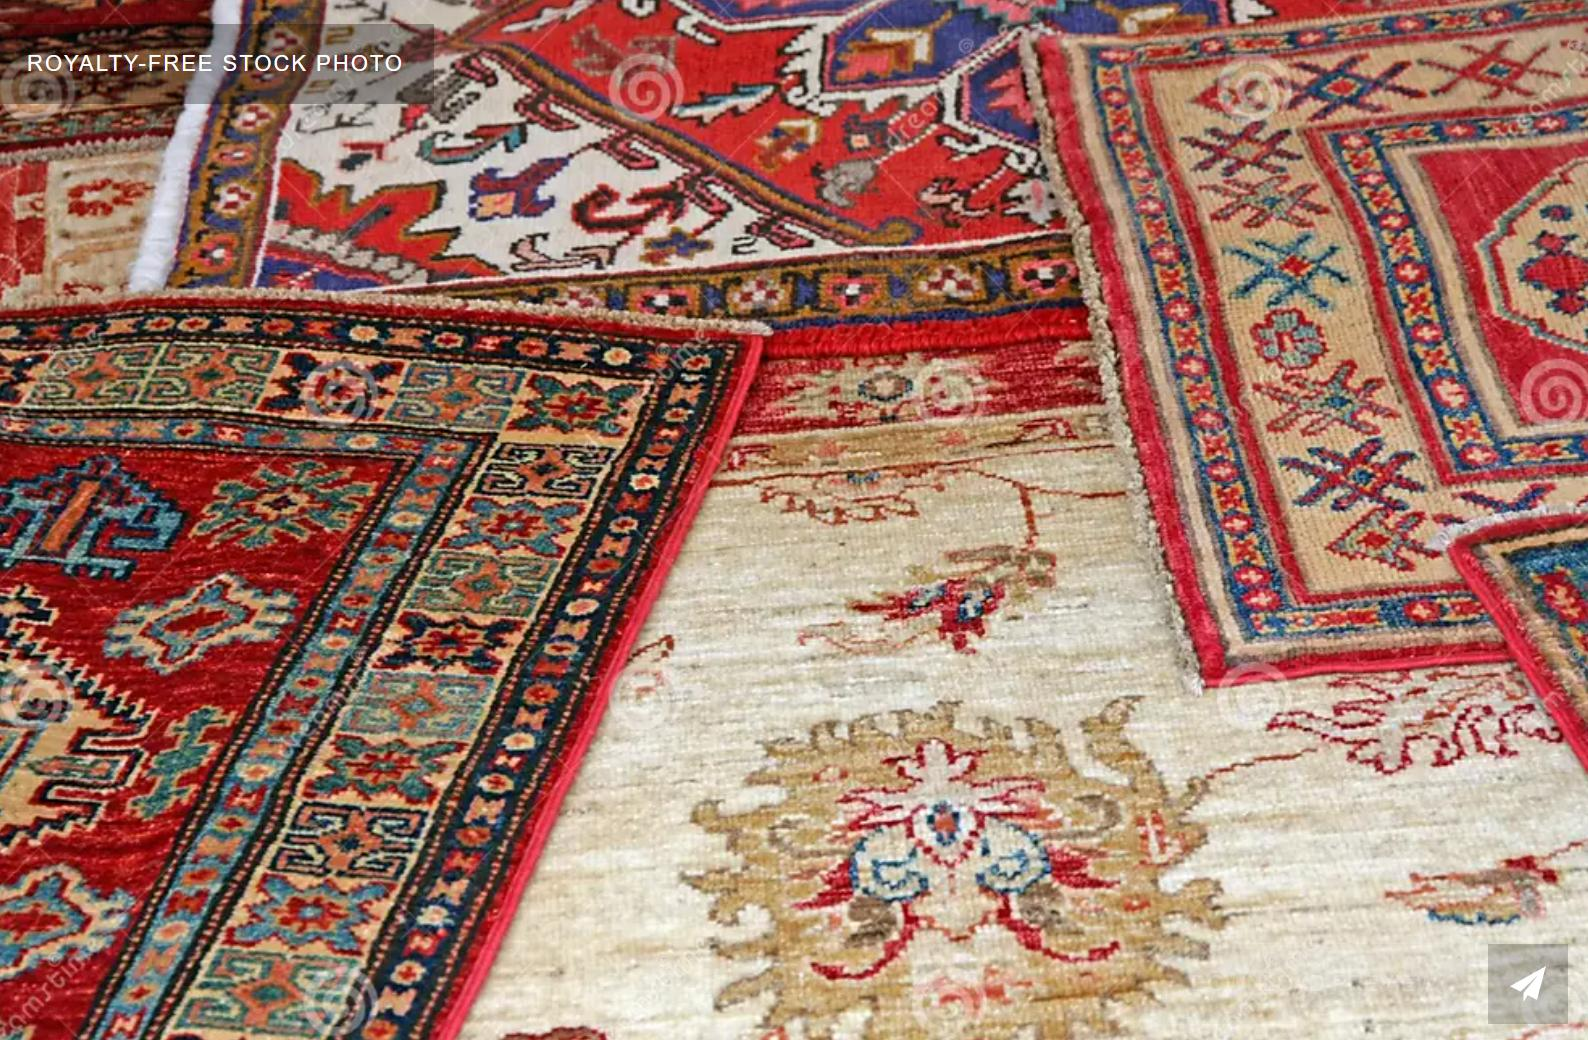carpet: (0, 295, 763, 1038), (1449, 513, 1588, 767)
